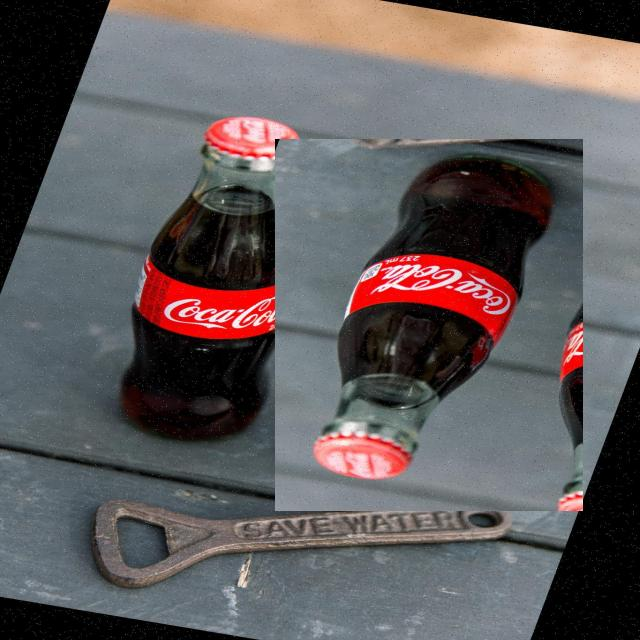coca-cola: (275, 139, 583, 512), (78, 98, 376, 450)
